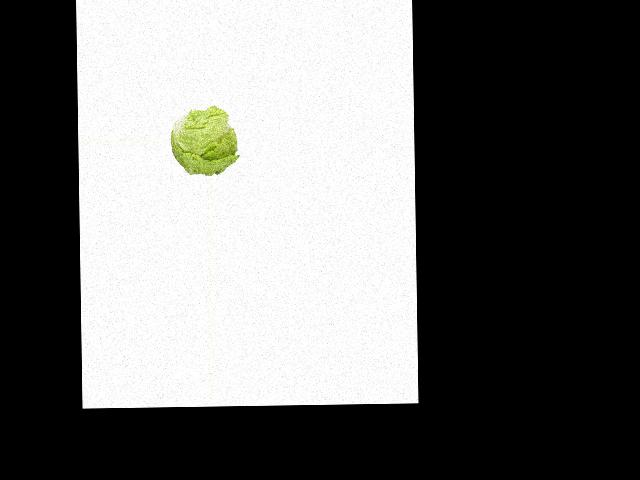lettuce: (168, 108, 238, 175)
